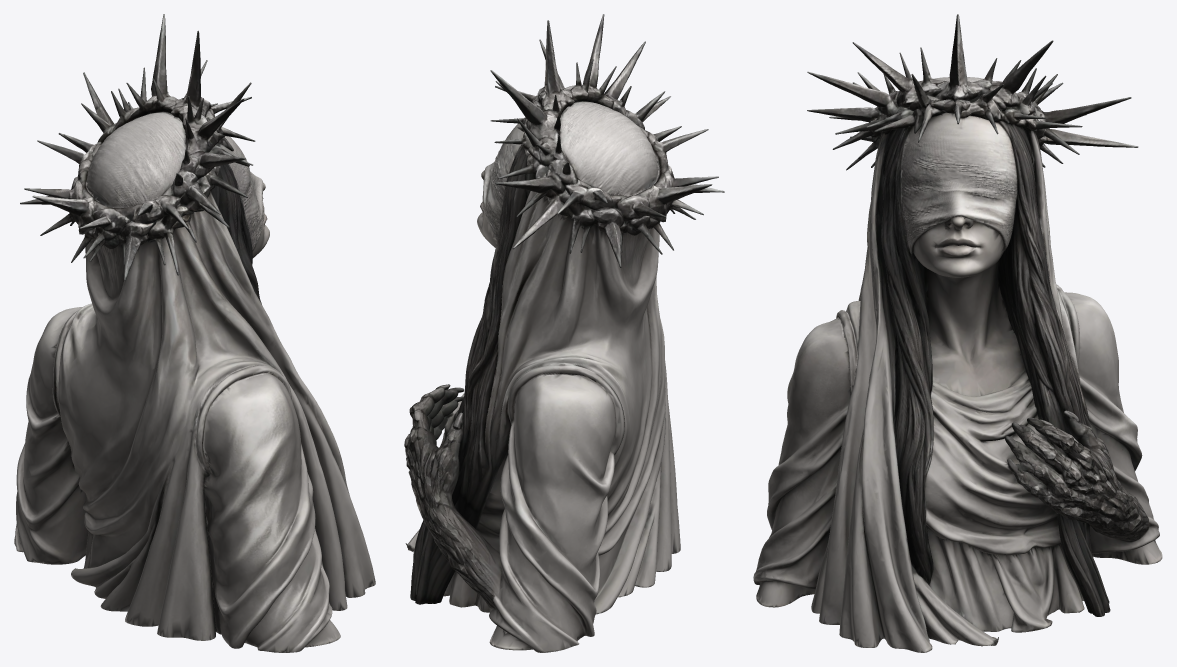
The model's file is fathom-core.glb.
3 renders of one model, left to right at view 1: azimuth 30°, elevation 25°; view 2: azimuth 150°, elevation 25°; view 3: azimuth 270°, elevation 25°, orthographic. The views are drawn at different scales.
Visible parts, largest first — view 1: tripo_node_2fe74d4a-4310-4bf6-be63-57cee2a27b3c; view 2: tripo_node_2fe74d4a-4310-4bf6-be63-57cee2a27b3c; view 3: tripo_node_2fe74d4a-4310-4bf6-be63-57cee2a27b3c.
Boxes of the visible parts, bbox=[...] form: tripo_node_2fe74d4a-4310-4bf6-be63-57cee2a27b3c: bbox=[14, 14, 375, 652]; tripo_node_2fe74d4a-4310-4bf6-be63-57cee2a27b3c: bbox=[404, 14, 724, 652]; tripo_node_2fe74d4a-4310-4bf6-be63-57cee2a27b3c: bbox=[753, 14, 1162, 652].
Size of the model in its own units: 0.5729 by 0.984 by 0.6402.
Materials: 1 (1 with a texture image).
